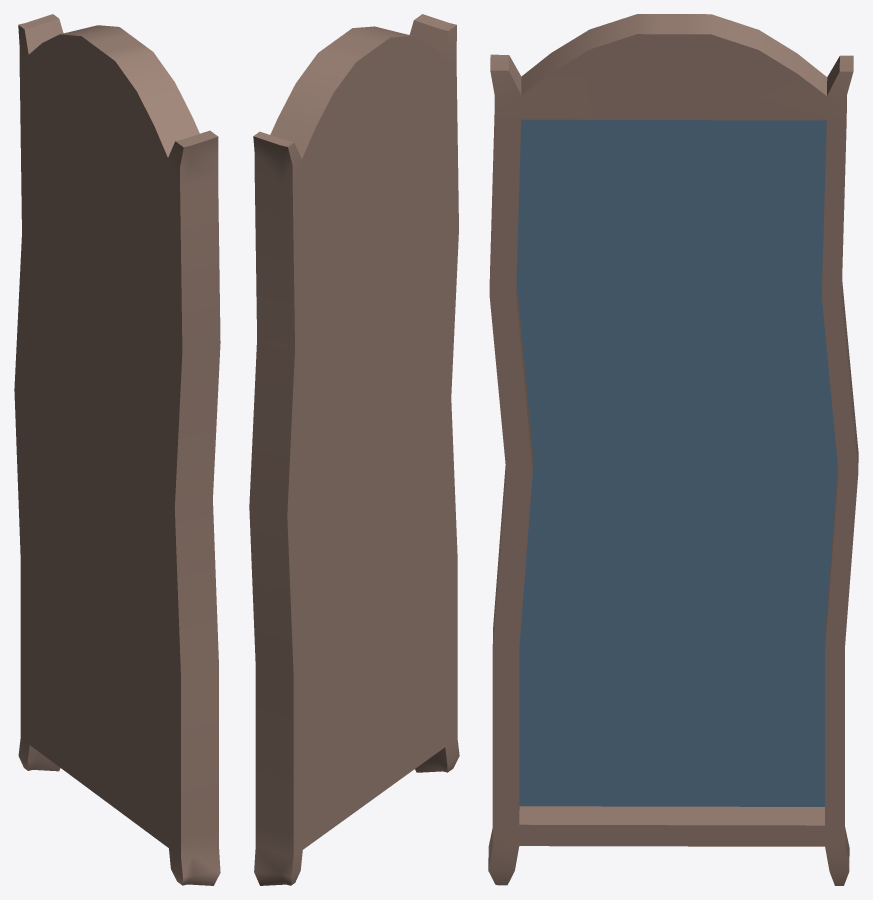
The model's file is Window.fbx.
3 renders of one model, left to right at view 1: azimuth 30°, elevation 25°; view 2: azimuth 150°, elevation 25°; view 3: azimuth 270°, elevation 25°, orthographic. The views are drawn at different scales.
Parts seen in each view (by area): view 1: window6; view 2: window6; view 3: window6.
Boxes of the visible parts, box(x1,y1,x2,y2) form: window6: box(14, 14, 220, 885); window6: box(249, 14, 459, 885); window6: box(488, 14, 858, 885).
Bounding box in the file's own units: 20.33 × 385 × 151.
